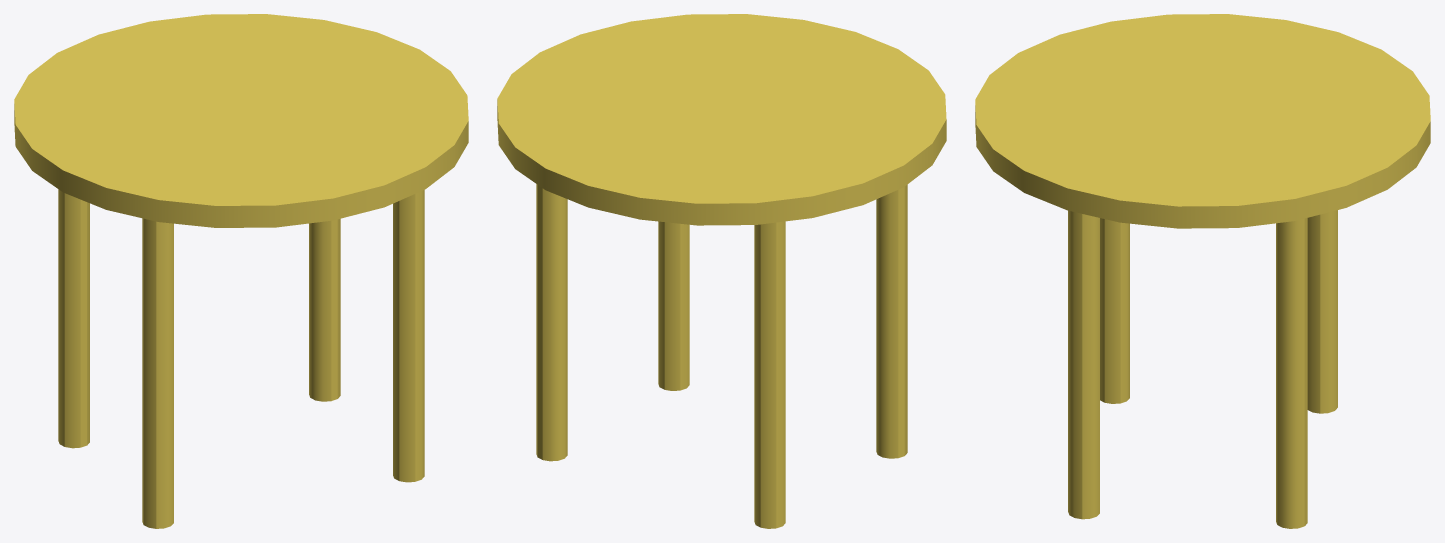
Rendered from 4 table.fbx.
3 renders of one model, left to right at view 1: azimuth 30°, elevation 25°; view 2: azimuth 150°, elevation 25°; view 3: azimuth 270°, elevation 25°, orthographic.
Visible parts, largest first — view 1: 4 table; view 2: 4 table; view 3: 4 table.
Part boxes in pixels (x1,y1,x2,y2): 4 table: [14, 14, 468, 528]; 4 table: [497, 14, 946, 528]; 4 table: [975, 14, 1430, 528].
Size of the model in its own units: 57.41 by 48.6 by 57.41.
